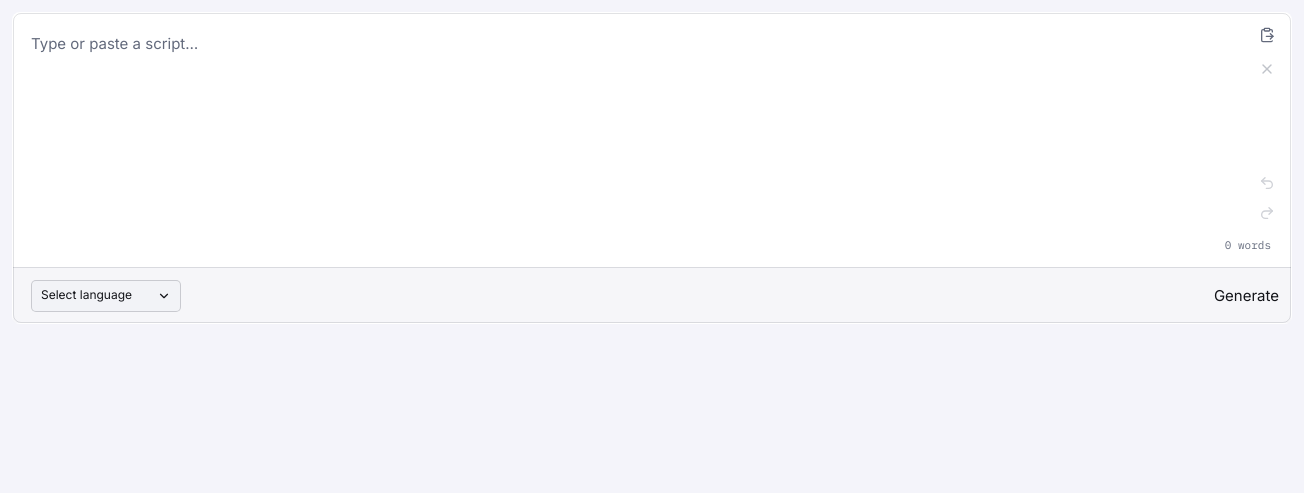
it: ScriptBlock footer › keeps the language control and options menu compact and lists English first
What coordinates should you click on to do the following:
click the button with aria-label "Script language"
I would click on:
 (106, 296)
Its box is [31,280,181,312].
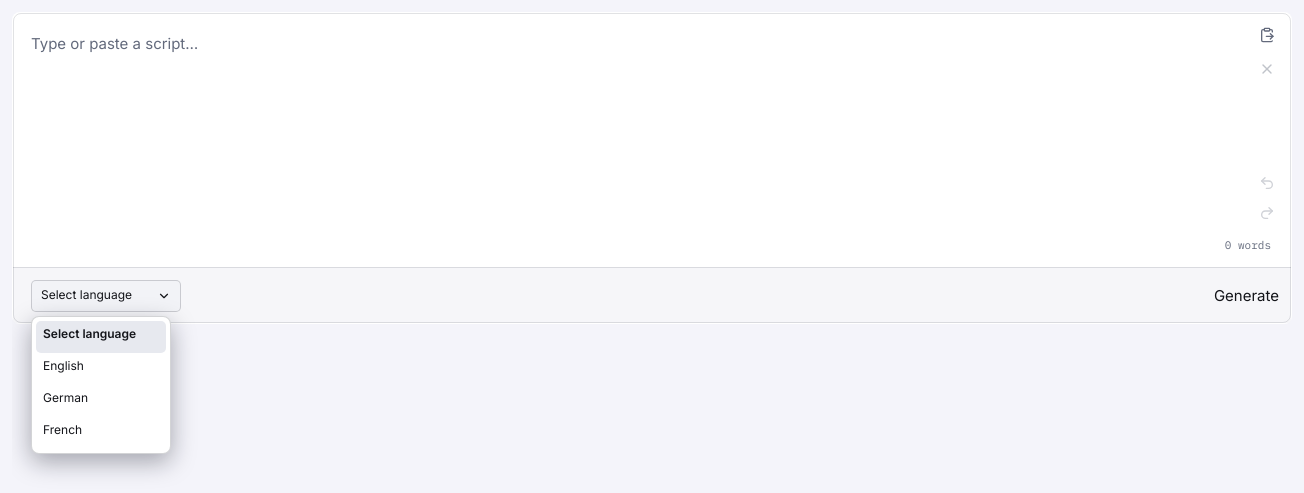
Expected: the menu is shown, [31,316,171,454]
